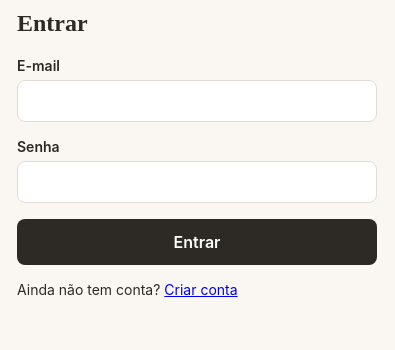
Test: LoginPage › exibe mensagem de erro quando as credenciais são inválidas
The width and height of the screenshot is (395, 350).
Type "maria@example.com" into the field labelled "E-mail" at (197, 101), box top-left (17, 80), bottom-right (377, 122)
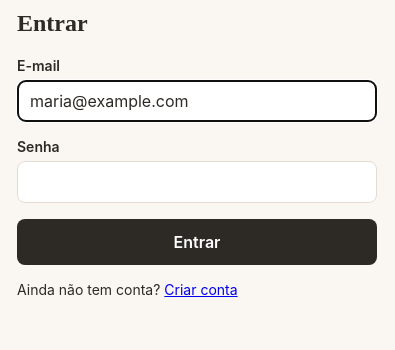
Type "senhaErrada" into the password field labelled "Senha" at (197, 182), box top-left (17, 161), bottom-right (377, 203)
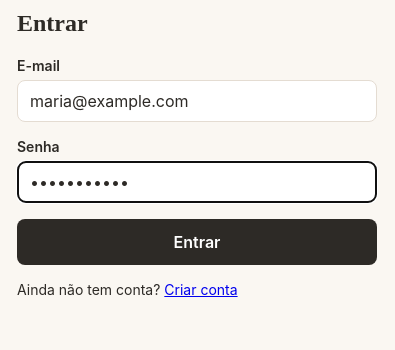
Click the button "Entrar" at (197, 242), box top-left (17, 219), bottom-right (377, 265)
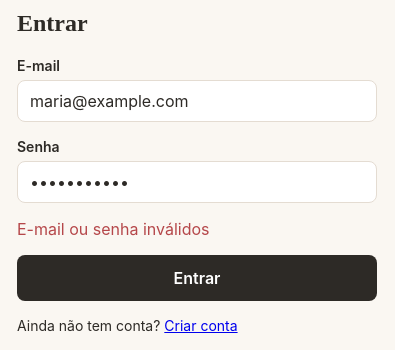
Check: the text "E-mail ou senha inválidos" is shown, box top-left (17, 219), bottom-right (210, 239)
